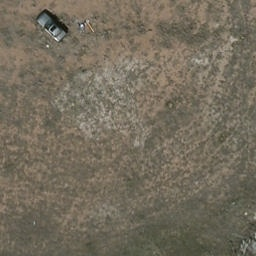car: (33, 11, 68, 43)
